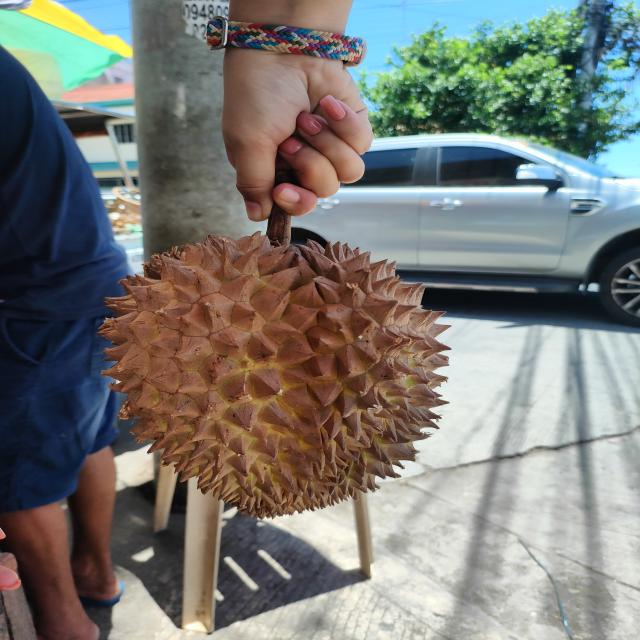mature: (100, 233, 456, 524)
